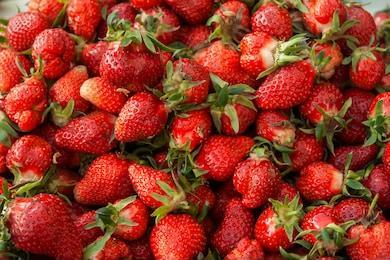Fresa: (3, 192, 88, 260), (99, 30, 166, 92), (253, 50, 318, 113), (72, 150, 145, 206), (188, 131, 258, 184), (52, 107, 122, 158), (6, 130, 59, 194), (112, 88, 172, 144), (230, 151, 284, 211), (126, 161, 184, 216), (148, 209, 206, 260), (251, 198, 303, 253), (46, 61, 92, 116), (162, 55, 210, 107), (295, 159, 351, 203), (343, 213, 390, 260), (238, 30, 281, 80), (345, 43, 387, 92)
